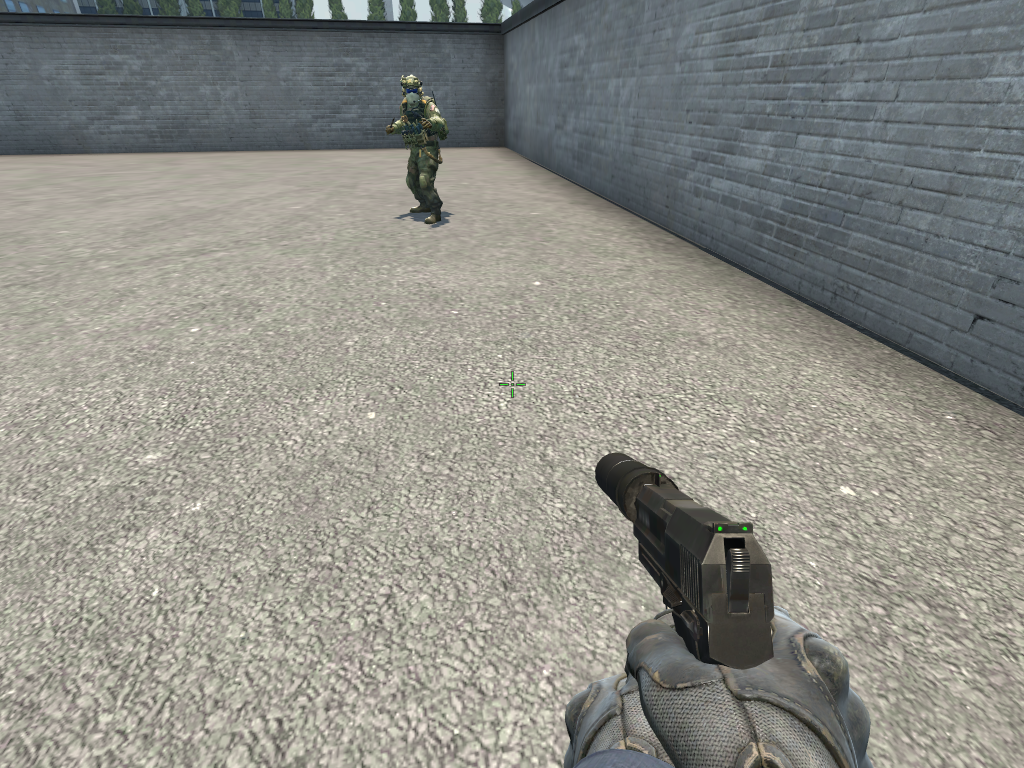ct head: (404, 79, 419, 105)
